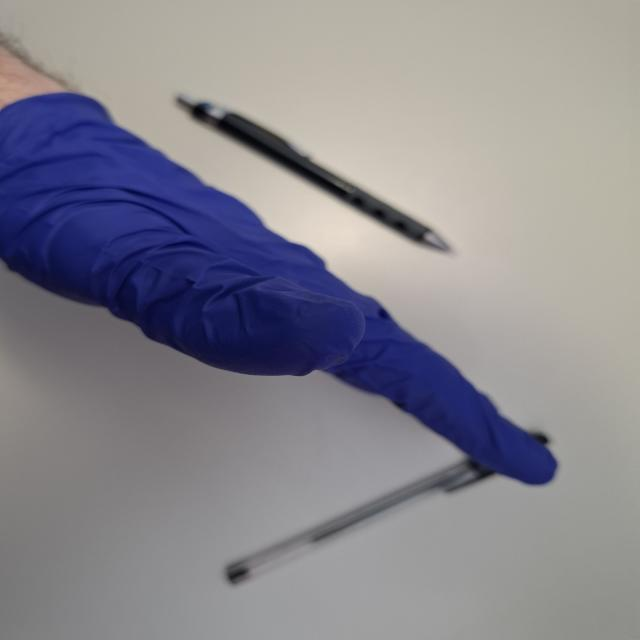glove_on: (0, 87, 561, 490)
